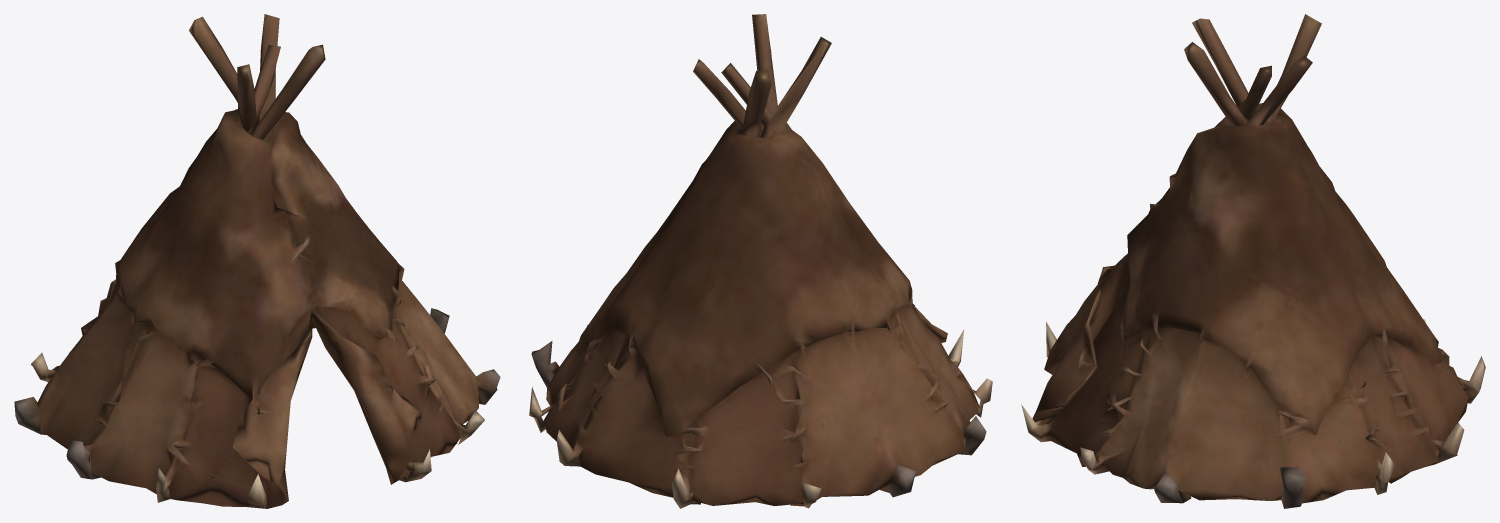
The model's file is hide_tent.glb.
3 views of the same model, side by side, from view 1: azimuth 30°, elevation 25°; view 2: azimuth 150°, elevation 25°; view 3: azimuth 270°, elevation 25° (orthographic).
Visible parts, largest first — view 1: tripo_node_256c4ea5-9ff8-4d3e-8067-269d68a6faf7; view 2: tripo_node_256c4ea5-9ff8-4d3e-8067-269d68a6faf7; view 3: tripo_node_256c4ea5-9ff8-4d3e-8067-269d68a6faf7.
Part boxes in pixels (x1,y1,x2,y2): tripo_node_256c4ea5-9ff8-4d3e-8067-269d68a6faf7: (14,14,500,508); tripo_node_256c4ea5-9ff8-4d3e-8067-269d68a6faf7: (529,14,992,508); tripo_node_256c4ea5-9ff8-4d3e-8067-269d68a6faf7: (1021,14,1485,508).
Size of the model in its own units: 0.9848 by 0.866 by 0.9395.
Materials: 1 (1 with a texture image).
